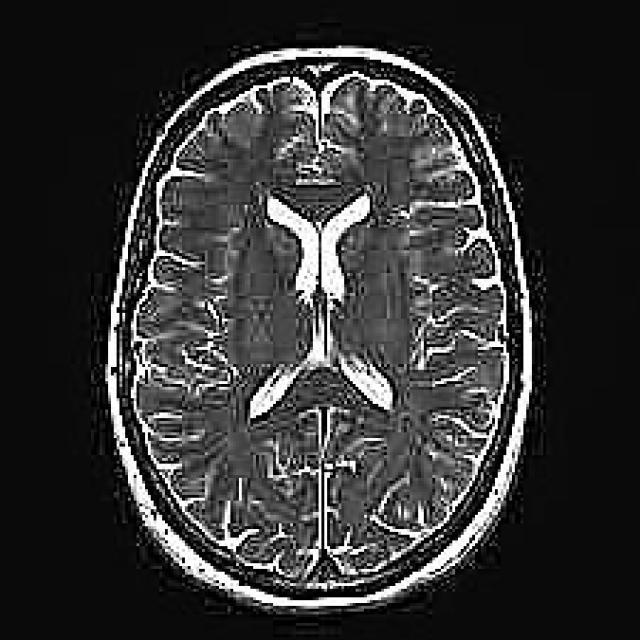notumor: (108, 46, 529, 609)
